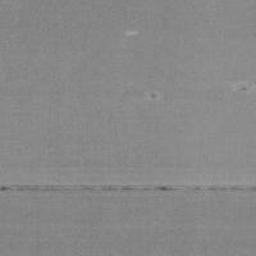Welding line: (0, 185, 256, 193)
